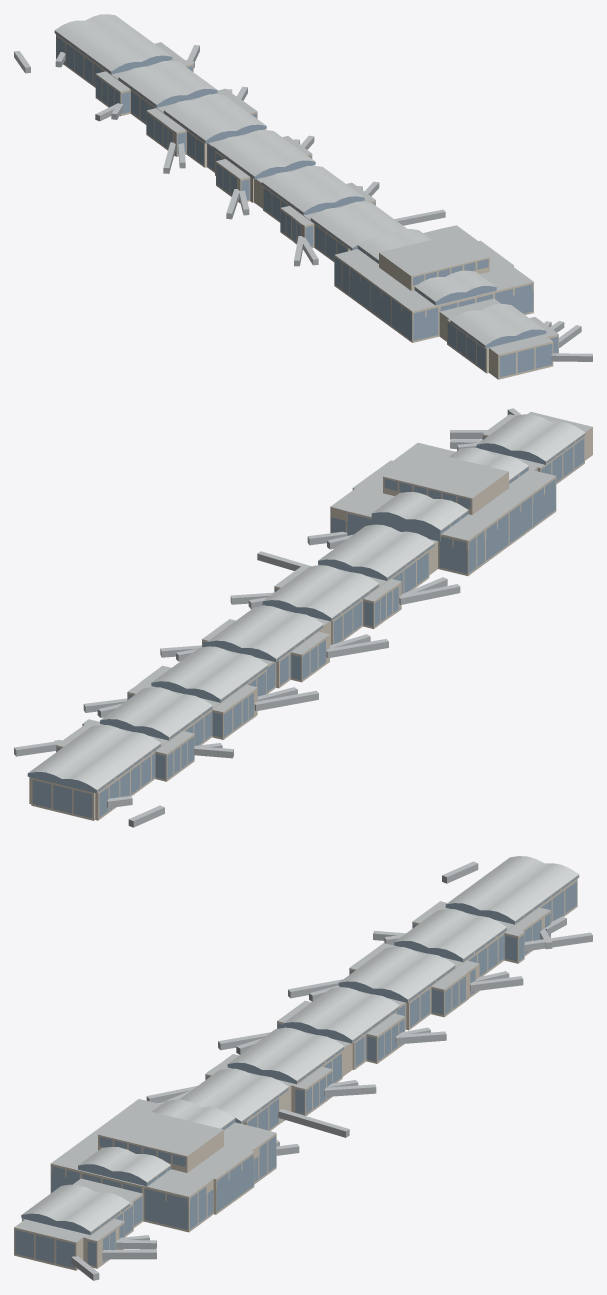
The model's file is la-lax-west-gates.glb.
3 views of the same model, one above another, from view 1: azimuth 30°, elevation 25°; view 2: azimuth 150°, elevation 25°; view 3: azimuth 330°, elevation 25° (orthographic). The views are drawn at different scales.
Visible parts, largest first — view 1: LAX West Gates; view 2: LAX West Gates; view 3: LAX West Gates.
Boxes of the visible parts, bbox=[...] form: LAX West Gates: bbox=[14, 14, 592, 379]; LAX West Gates: bbox=[14, 408, 592, 827]; LAX West Gates: bbox=[14, 856, 592, 1280].
Size of the model in its own units: 111 by 29.1 by 523.
